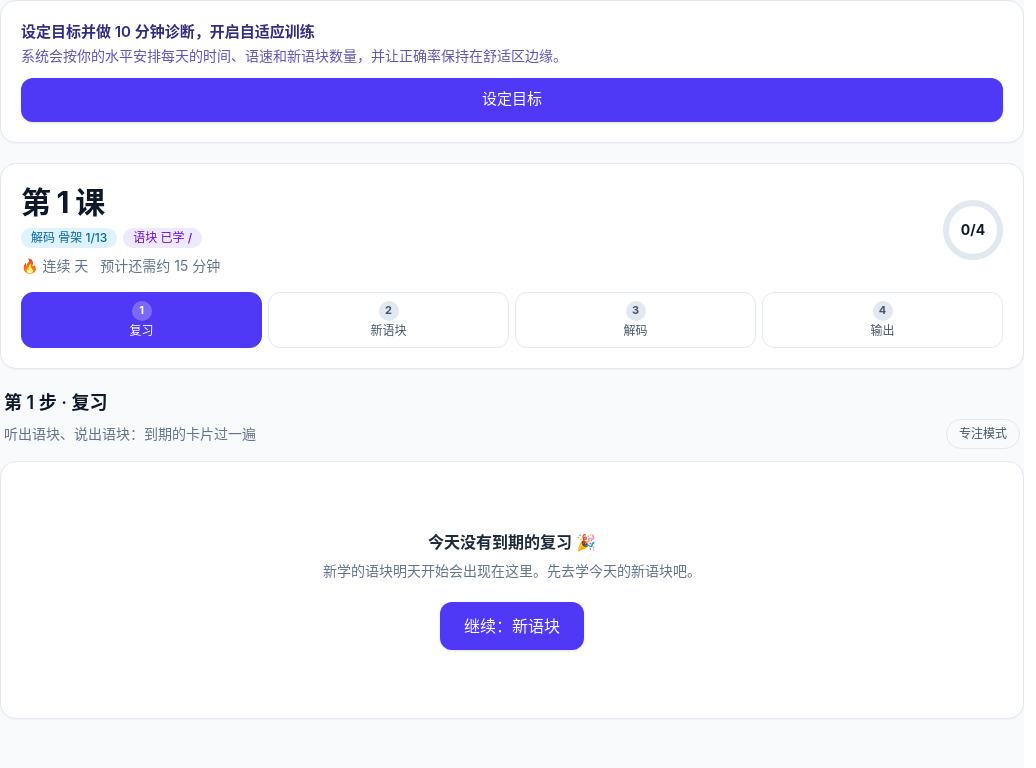
TodayPage v2: step 1 复习 › shows a friendly empty state when nothing is due and records the step on continue
Expected: the text "今天没有到期的复习 🎉" is shown, x1=428 y1=530 x2=596 y2=554
Click the button "继续：新语块". click: (512,626)
box: x1=440 y1=602 x2=584 y2=650
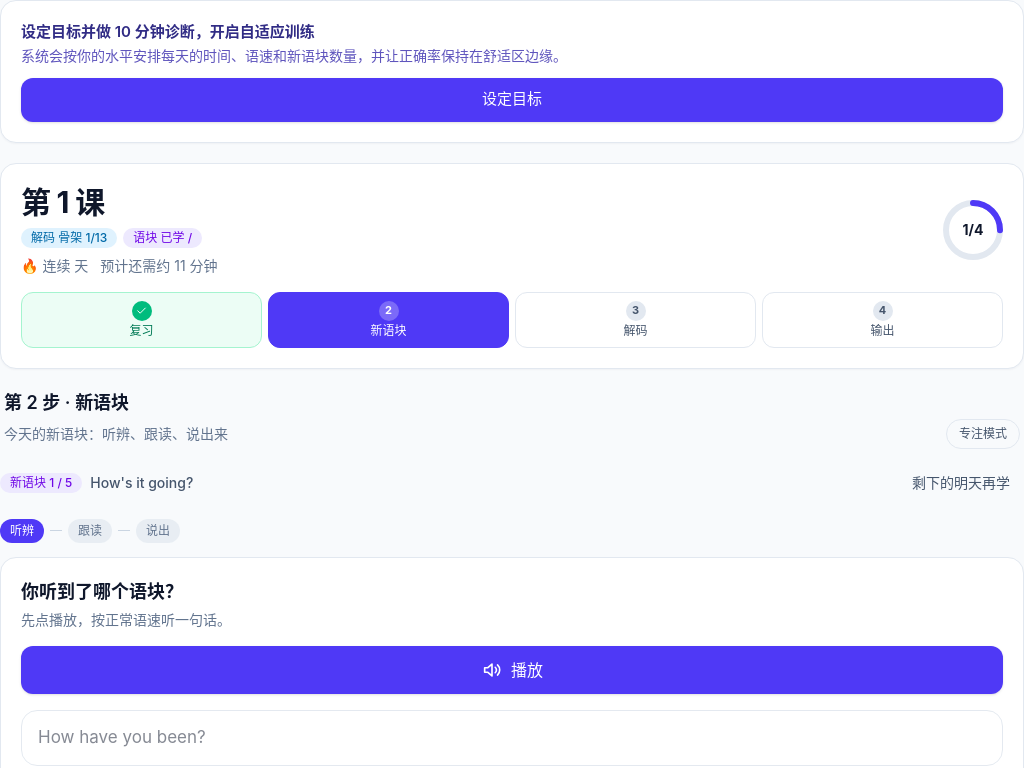
Result: the text with test id "chunks-progress" reads "新语块 1 / 5" at x1=0 y1=472 x2=82 y2=492
Result: the button with aria-label "第 1 步 复习，已完成" is shown at x1=21 y1=292 x2=262 y2=348
